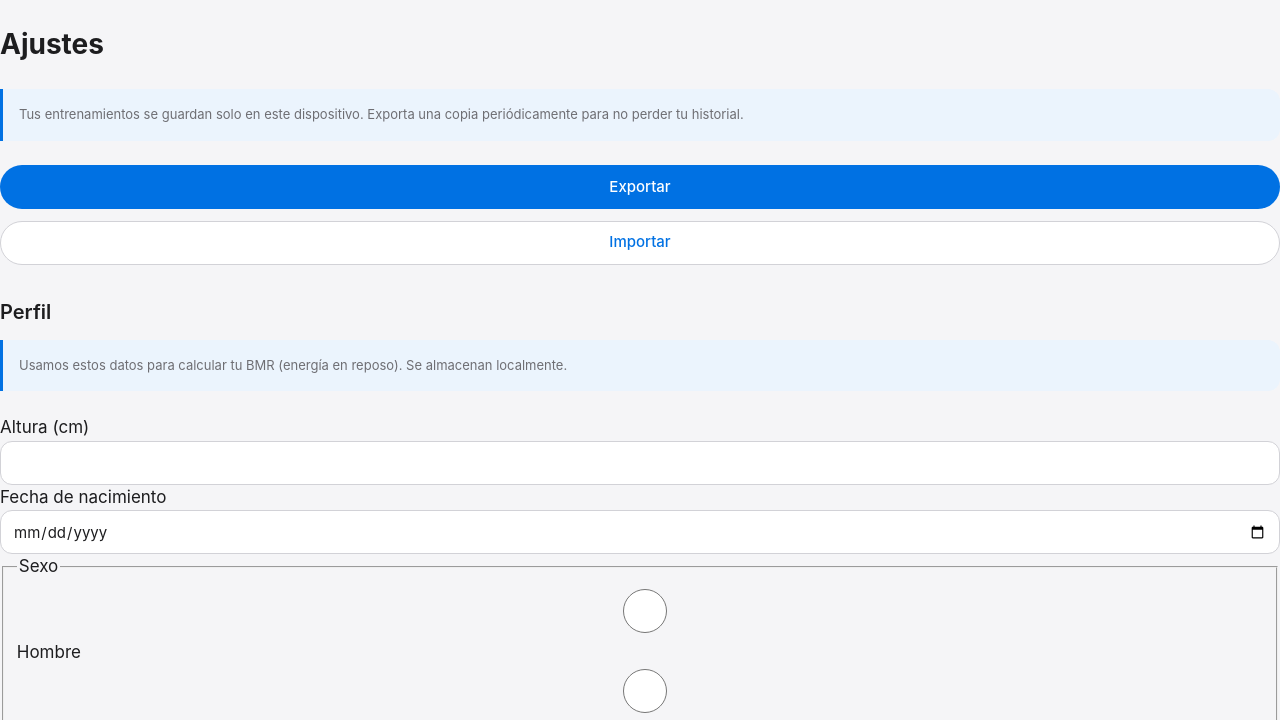
Scenario: <Settings /> profile section (F6-T009) › shows an inline error when the form is invalid (e.g. age < 5)
Type "175" into the number field labelled "Altura (cm)" at (640, 463), box [0, 441, 1279, 485]
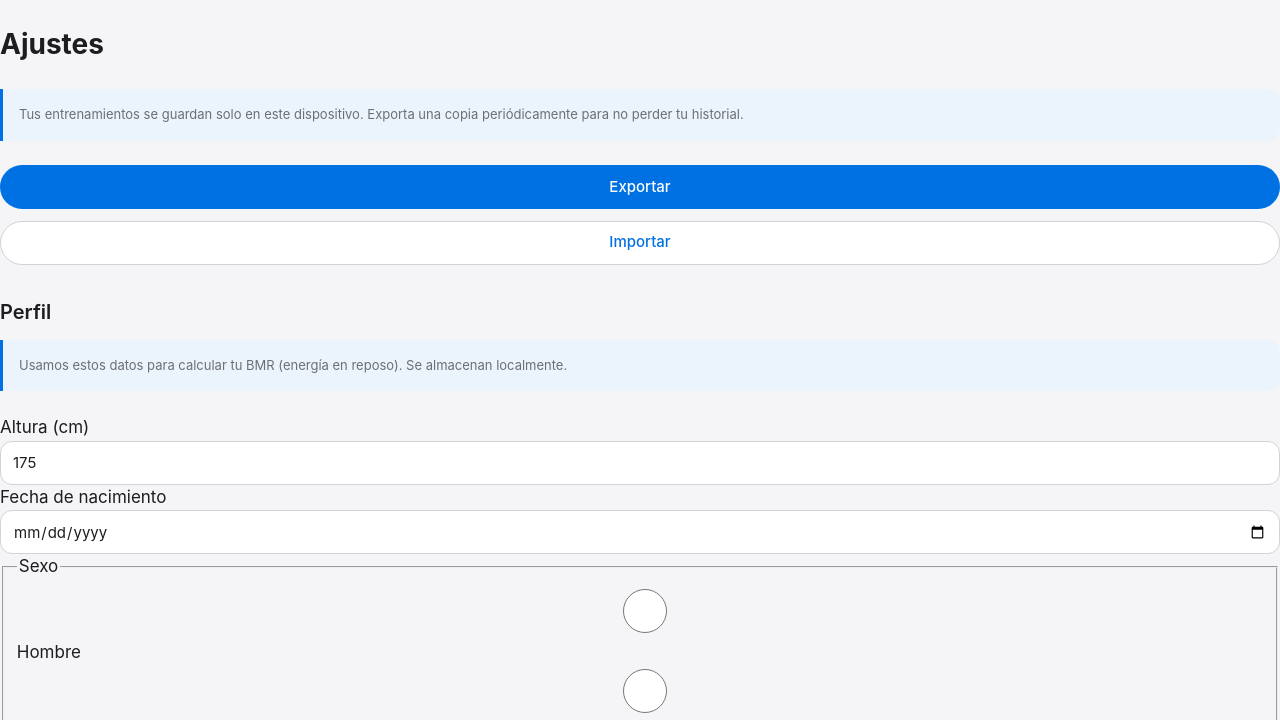
Type "2099-01-01" into the date field labelled "Fecha de nacimiento" at (640, 532), box [0, 510, 1279, 554]
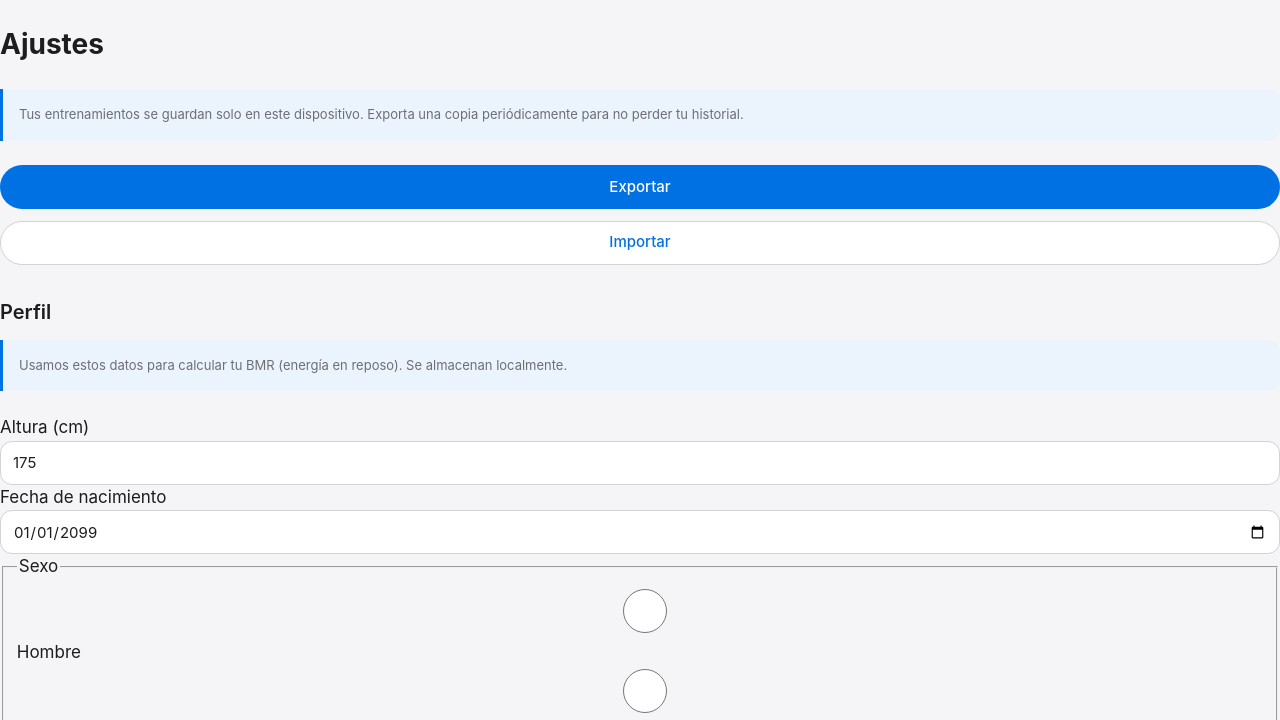
Click the radio button labelled "Hombre" at (645, 611), box [22, 589, 1268, 633]
(page scrolled)
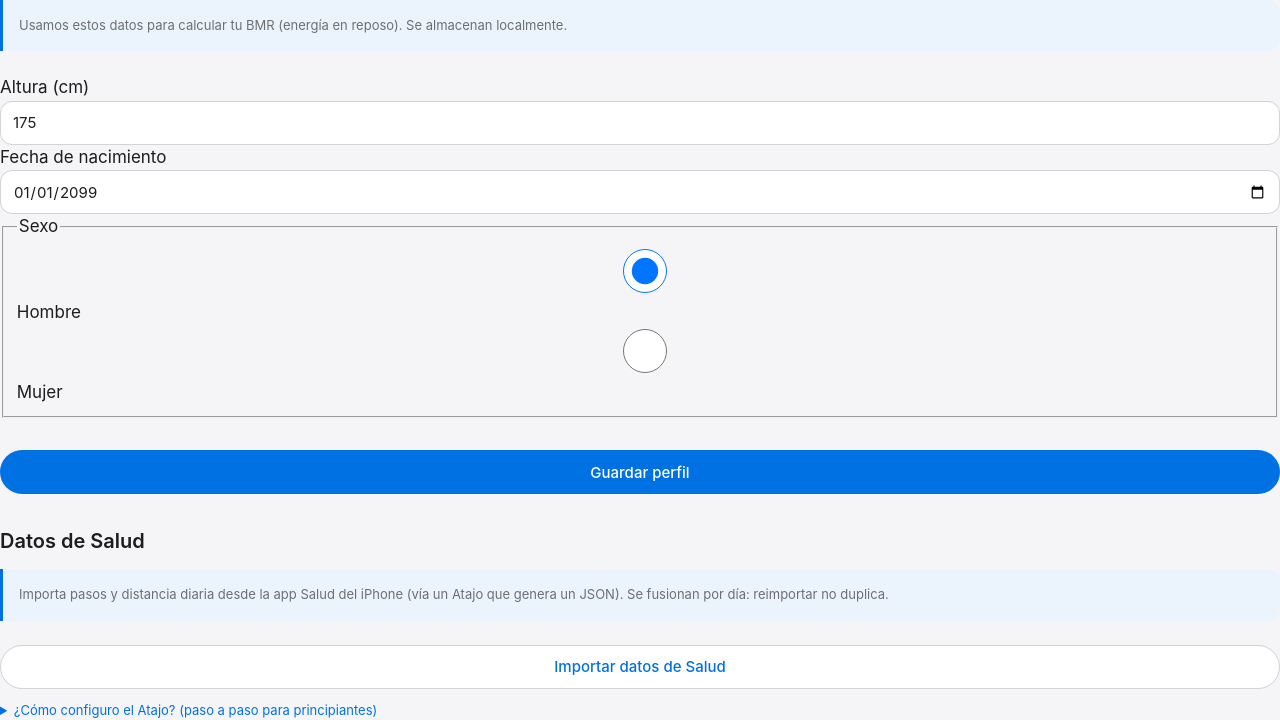
Click the button "Guardar perfil" at (640, 472), box [0, 450, 1279, 494]
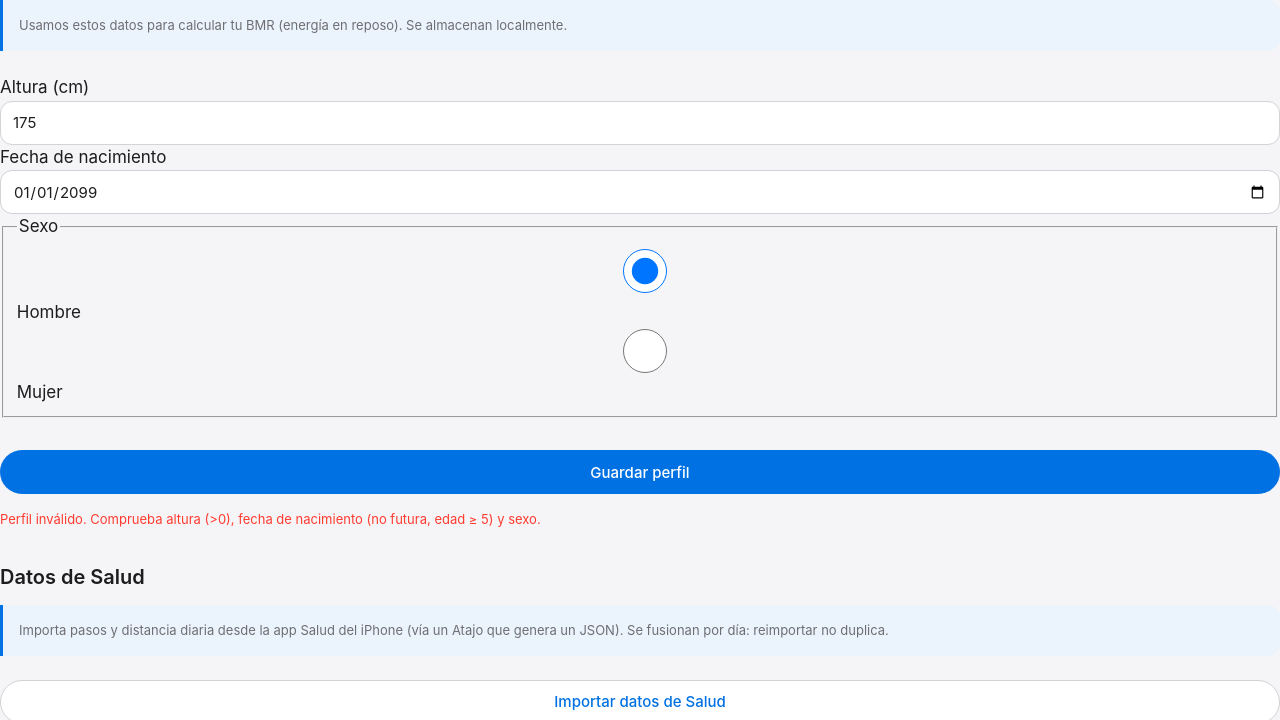
expect the text "Perfil inválido" is shown: met, box [0, 511, 541, 527]
